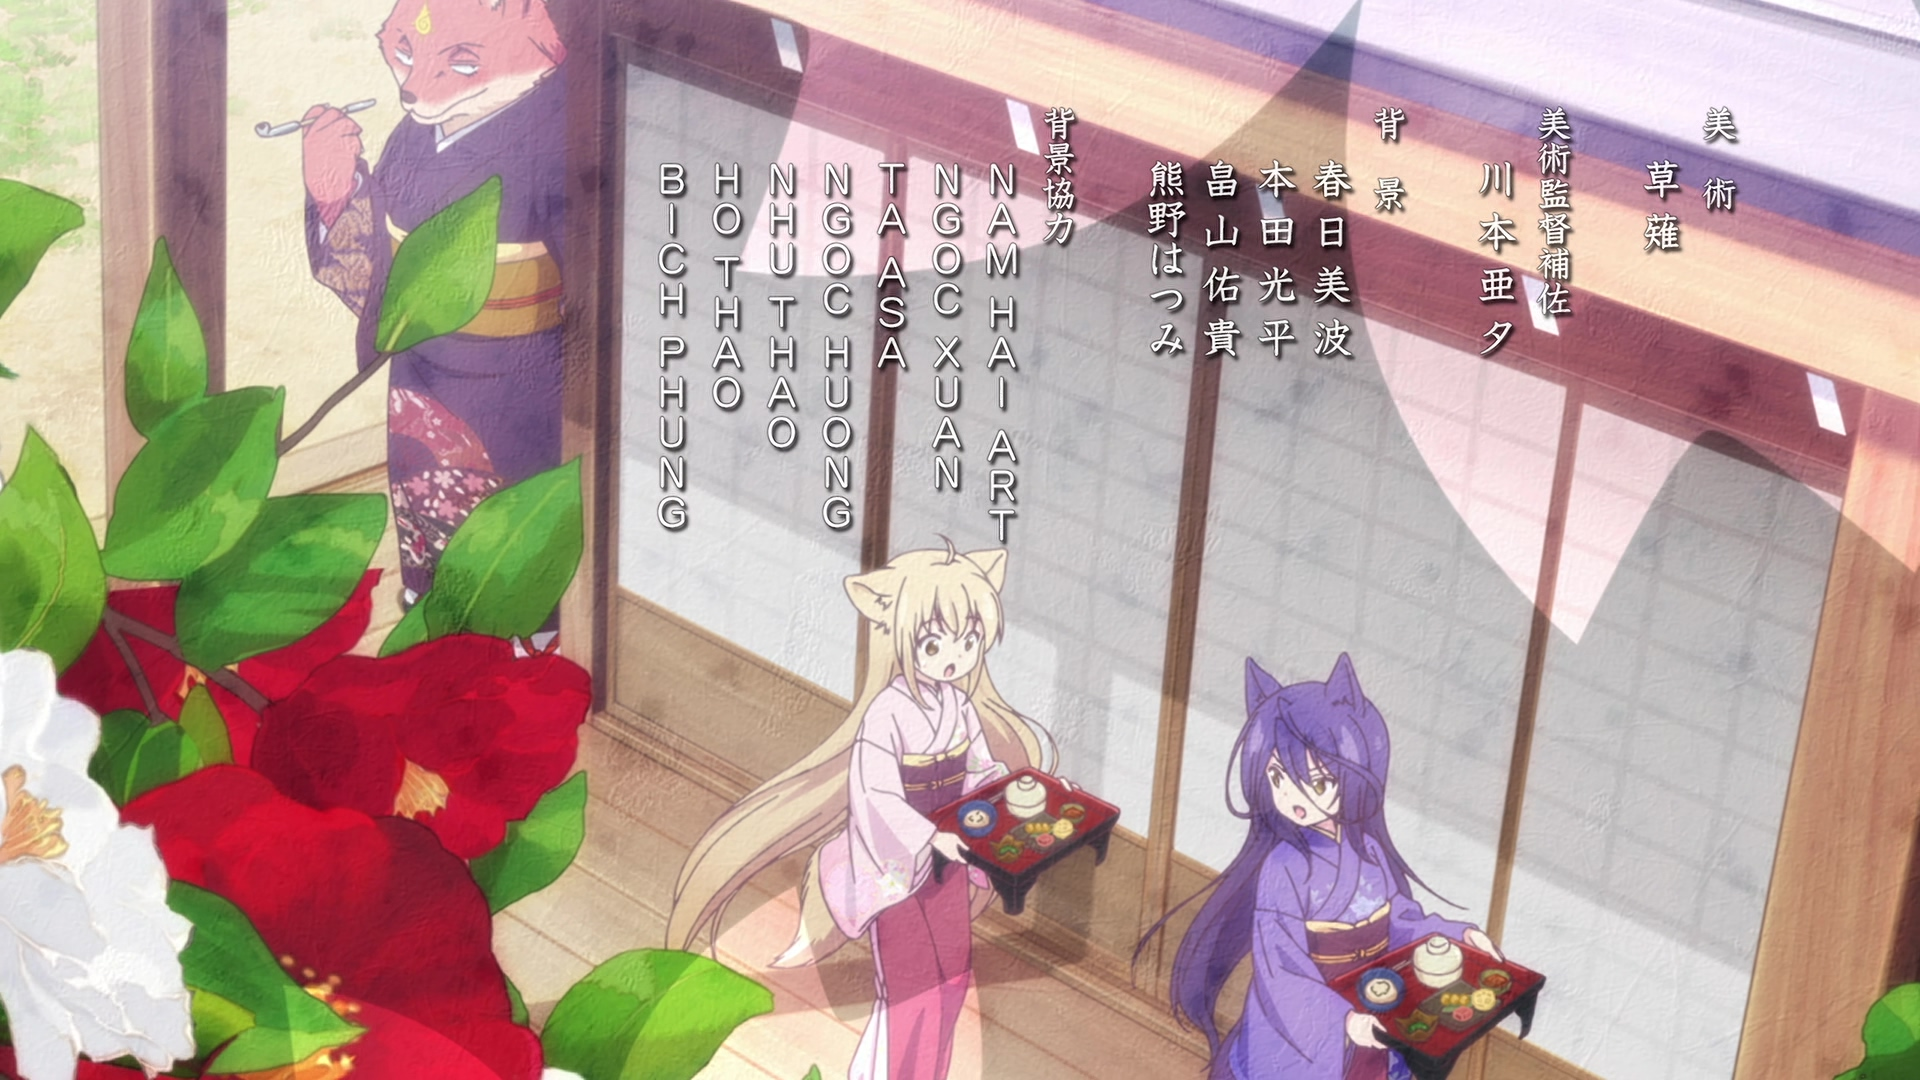柚: (667, 539, 1120, 1080)
椿: (252, 1, 566, 653)
皋: (1131, 654, 1547, 1080)
